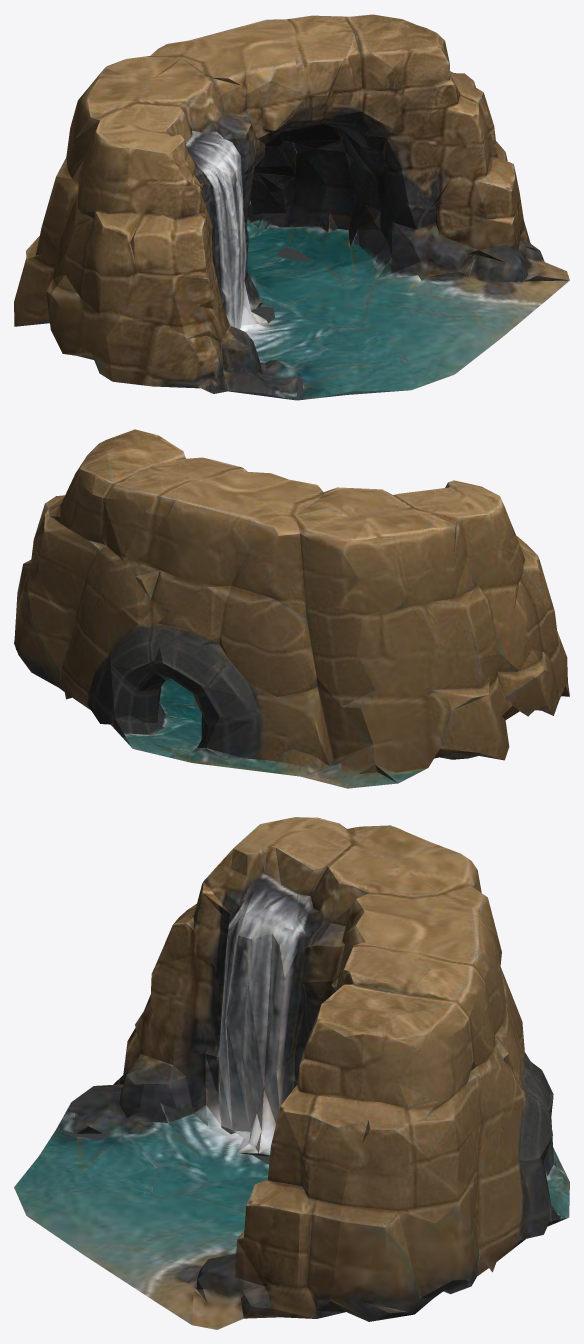
File: waterfall-cave.lod.glb
The picture shows the model from 3 angles, top to bottom: view 1: azimuth 30°, elevation 25°; view 2: azimuth 150°, elevation 25°; view 3: azimuth 270°, elevation 25°; orthographic projection. The views are drawn at different scales.
Visible parts, largest first — view 1: output_unwrapped; view 2: output_unwrapped; view 3: output_unwrapped.
Boxes of the visible parts, left/top/right/bottom form: output_unwrapped: left=14, top=14, right=569, bottom=400; output_unwrapped: left=14, top=429, right=569, bottom=788; output_unwrapped: left=14, top=817, right=569, bottom=1329.
Bounding box in the file's own units: 1.79 × 0.781 × 1.47.
Materials: 1 (1 with a texture image).
